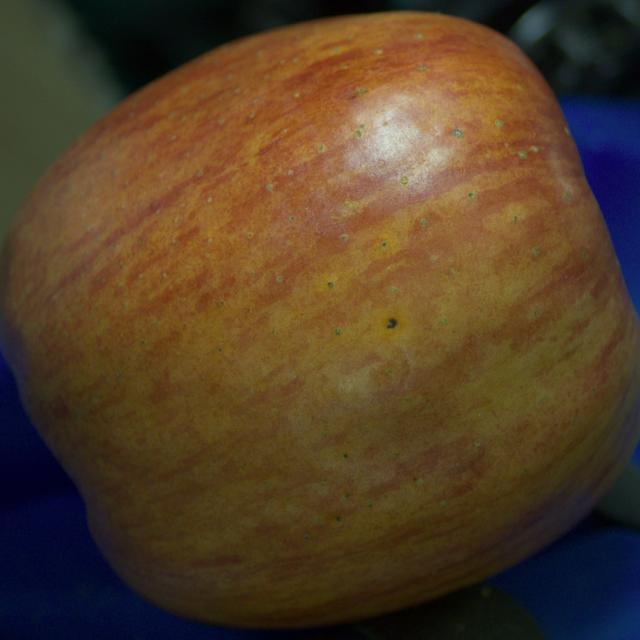apple: (0, 12, 639, 628)
pest: (388, 319, 397, 328)
